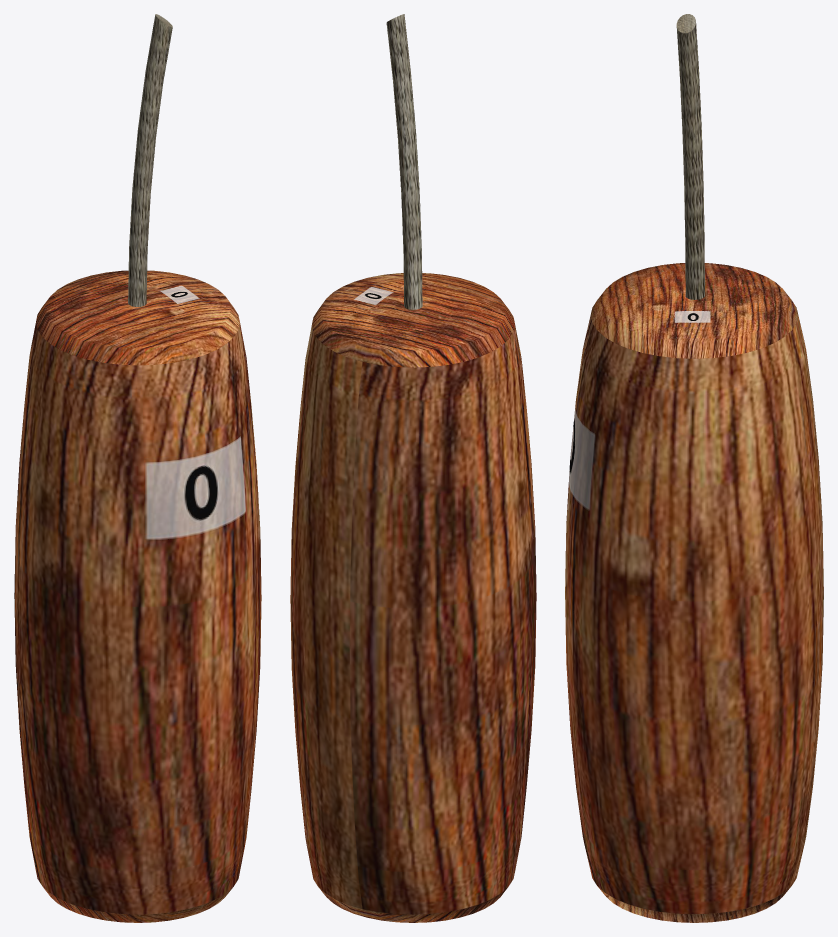
The model's file is punching bag wood0.FBX.
3 renders of one model, left to right at view 1: azimuth 30°, elevation 25°; view 2: azimuth 150°, elevation 25°; view 3: azimuth 270°, elevation 25°, orthographic.
Parts seen in each view (by area): view 1: Cylinder001, Cylinder002; view 2: Cylinder001, Cylinder002; view 3: Cylinder001, Cylinder002.
Part boxes in pixels (x1,y1,x2,y2): Cylinder001: [14, 270, 261, 922]; Cylinder002: [128, 14, 172, 306]; Cylinder001: [290, 273, 536, 922]; Cylinder002: [386, 14, 422, 309]; Cylinder001: [565, 263, 823, 922]; Cylinder002: [676, 14, 704, 299].
Bounding box in the file's own units: 54.37 × 216 × 56.99.
